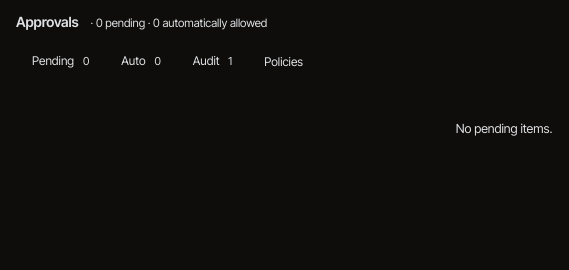
Scenario: GatingInboxPanel recorded audit › keeps an unrecognized or missing tier explicit: Unknown (future-tier)
The image size is (569, 270).
Click the button with test id "gating-tab:audit".
click(213, 62)  # box [177,44,248,80]
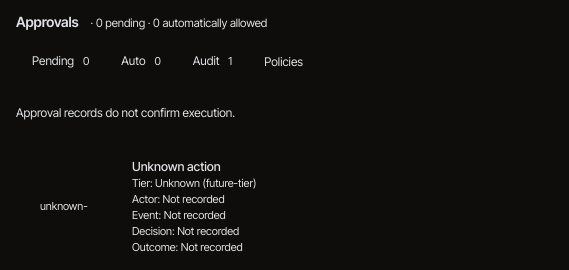
Result: the text "Actor: Not recorded" is shown at [132,192,224,206]
Result: the text "Outcome: Not recorded" is shown at [132,240,243,254]
Result: the text "Decision: Not recorded" is shown at [132,224,239,238]
